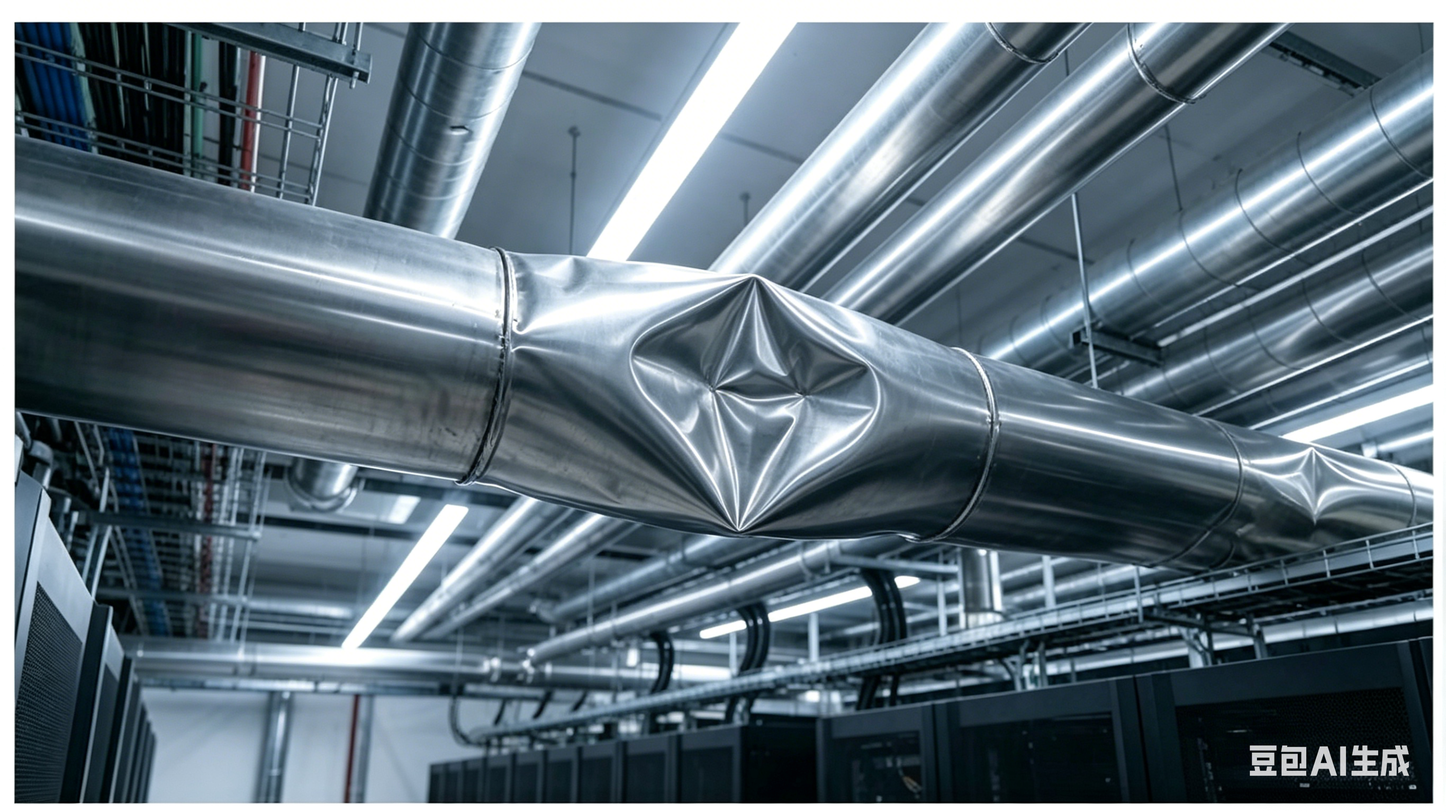Leakage: (613, 270, 897, 539), (1233, 432, 1398, 552), (499, 252, 615, 324)
